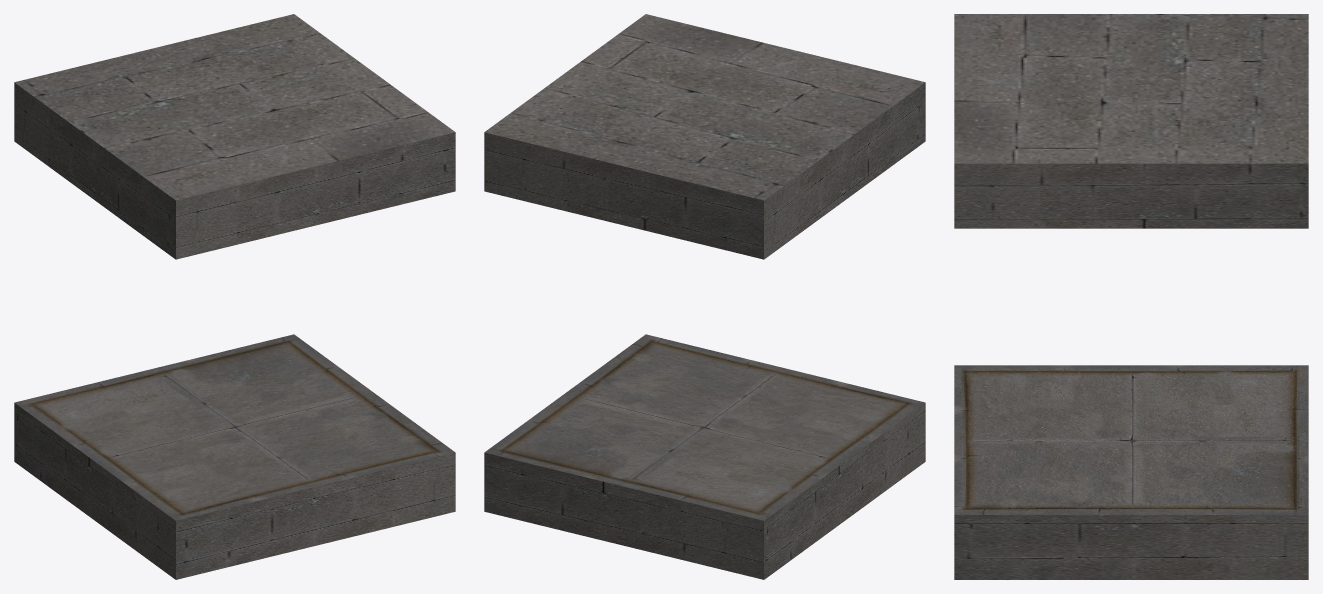
Rendered from StoneBlockFloor2.glb.
The picture shows the model from 3 angles, left to right: view 1: azimuth 30°, elevation 25°; view 2: azimuth 150°, elevation 25°; view 3: azimuth 270°, elevation 25°; orthographic projection. The views are drawn at different scales.
Visible parts, largest first — view 1: SolidFloor; view 2: SolidFloor; view 3: SolidFloor.
Boxes of the visible parts, bbox=[...] form: SolidFloor: bbox=[14, 14, 455, 579]; SolidFloor: bbox=[484, 14, 925, 579]; SolidFloor: bbox=[954, 14, 1308, 579].
Bounding box in the file's own units: 2 × 2.59 × 2.
Materials: 1 (1 with a texture image).
